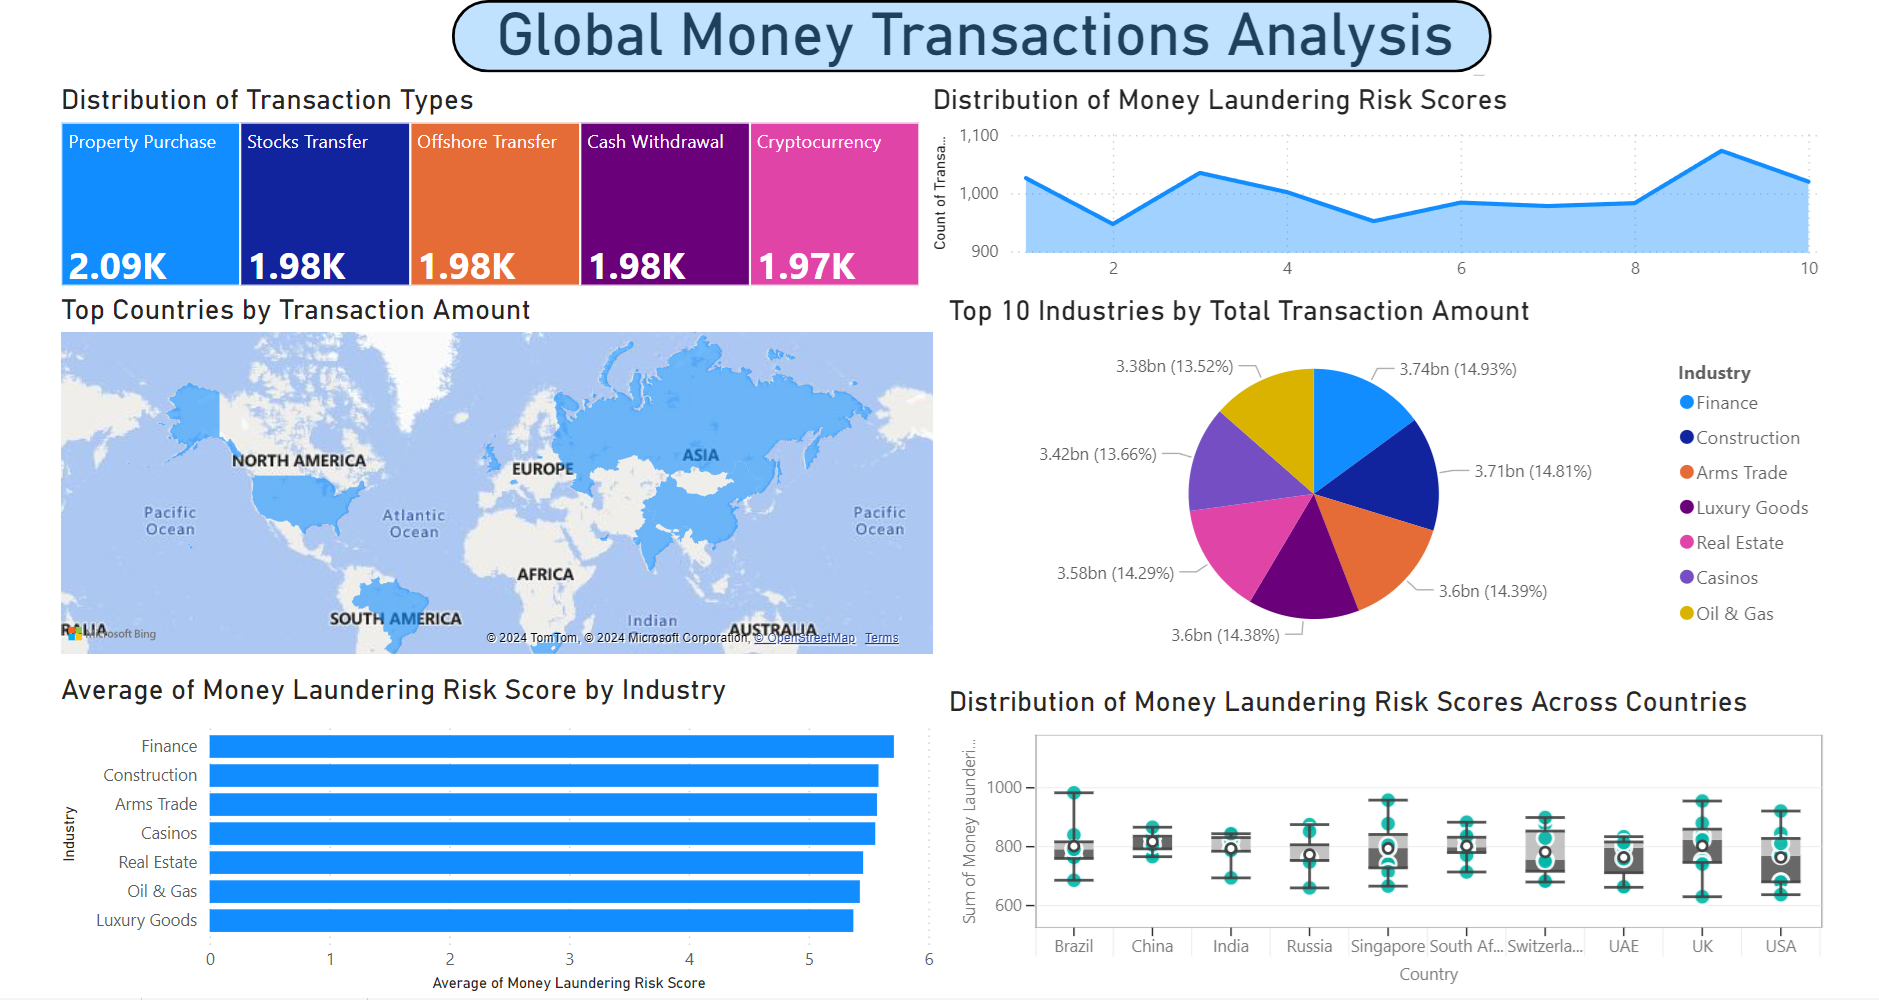

What the dashboard file says about the page in this screenshot:
{"tool":"powerbi","page":{"name":"Visualization","canvas":[1280,720],"ordinal":0},"visuals":[{"type":"treemap","title":"Distribution of Transaction Types","fields":{"Group":["Big_Black_Money_Dataset.Transaction Type"],"Values":["CountNonNull(Big_Black_Money_Dataset.Transaction ID)"]},"box":[0,0,629.3,210.9],"z":0},{"type":"filledMap","title":"Top Countries by Transaction Amount","fields":{"Category":["Big_Black_Money_Dataset.Country"]},"box":[0,210.9,639.5,266.2],"z":1000},{"type":"lineChart","title":"Distribution of Money Laundering Risk Scores","fields":{"Y":["CountNonNull(Big_Black_Money_Dataset.Transaction ID)"],"Category":["Big_Black_Money_Dataset.Money Laundering Risk Score"]},"box":[628.8,0,651.2,202.5],"z":2000},{"type":"pieChart","title":"Top 10 Industries by Total Transaction Amount","fields":{"Category":["Big_Black_Money_Dataset.Industry"],"Y":["Sum(Big_Black_Money_Dataset.Amount (USD))"]},"box":[639.5,210.9,640.6,266.2],"z":3000},{"type":"barChart","fields":{"Category":["Big_Black_Money_Dataset.Industry"],"Y":["Avg(Big_Black_Money_Dataset.Money Laundering Risk Score)"]},"box":[0,485,639.5,234.6],"z":4000},{"type":"BoxandWhiskerByMAQ1823AD39DT234AB532063E128AX","title":"Distribution of Money Laundering Risk Scores Across Countries","fields":{"measure":["Sum(Big_Black_Money_Dataset.Money Laundering Risk Score)"],"categoryGroup":["Big_Black_Money_Dataset.Country"],"category":["Big_Black_Money_Dataset.Industry"]},"box":[639.5,492.8,640.6,226.7],"z":5000}]}

Visuals, with their boxes on the page's 1280x720 design canvas (x1, y1, x2, y2). These are canvas units, not pixel positions in the 1879x1000 screenshot, which may show the page scaled, cropped or inside an application window:
"Distribution of Transaction Types" treemap: l=0, t=0, r=629, b=211
"Top Countries by Transaction Amount" filledMap: l=0, t=211, r=640, b=477
"Distribution of Money Laundering Risk Scores" lineChart: l=629, t=0, r=1280, b=202
"Top 10 Industries by Total Transaction Amount" pieChart: l=640, t=211, r=1280, b=477
barChart - Big_Black_Money_Dataset.Industry x Avg(Big_Black_Money_Dataset.Money Laundering Risk Score): l=0, t=485, r=640, b=720
"Distribution of Money Laundering Risk Scores Across Countries" BoxandWhiskerByMAQ1823AD39DT234AB532063E128AX: l=640, t=493, r=1280, b=720
